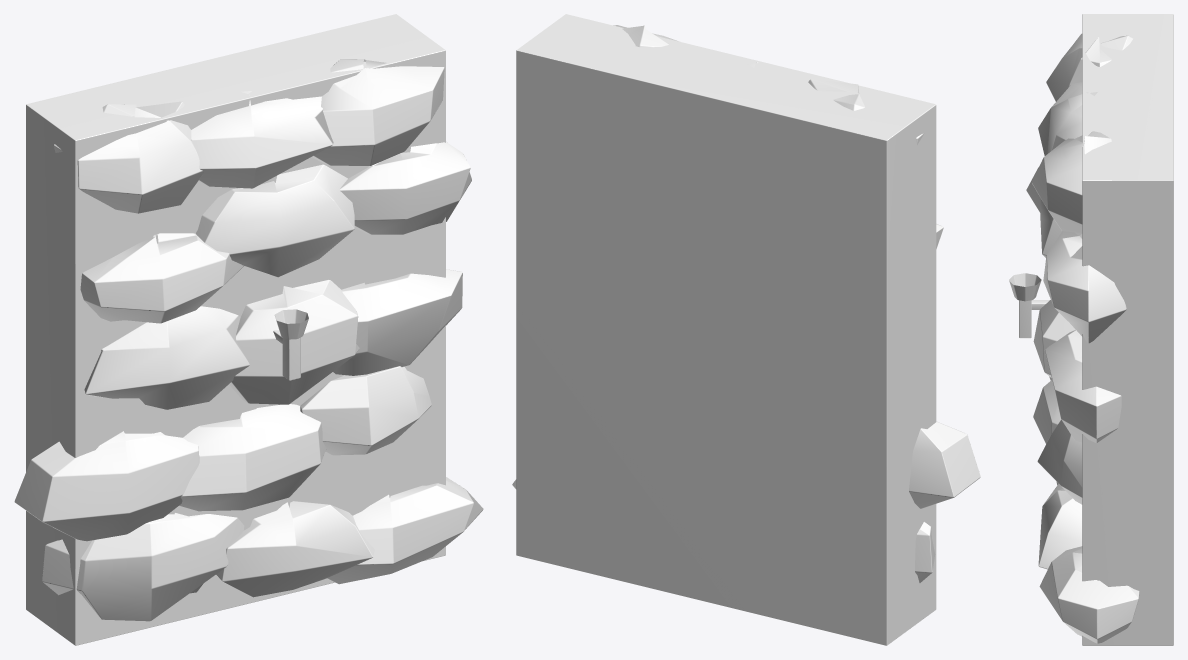
The model's file is wall_torch.glb.
The picture shows the model from 3 angles, left to right: view 1: azimuth 30°, elevation 25°; view 2: azimuth 150°, elevation 25°; view 3: azimuth 270°, elevation 25°; orthographic projection. The views are drawn at different scales.
Visible parts, largest first — view 1: WallTorch; view 2: WallTorch; view 3: WallTorch.
Boxes of the visible parts, x1,y1,x2,y2 form: WallTorch: [14, 14, 483, 645]; WallTorch: [512, 14, 980, 645]; WallTorch: [1009, 14, 1173, 645].
Size of the model in its own units: 5.28 by 5.73 by 1.8.
1 material, 1 textured.
